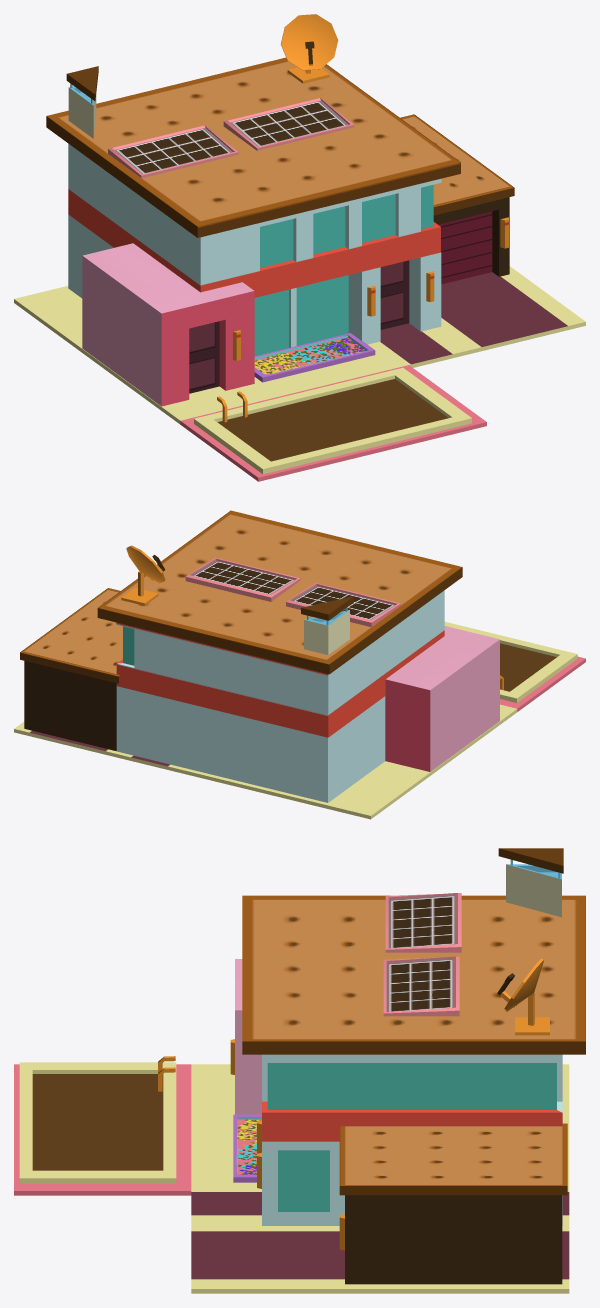
File: Tx_Building_PH_5.fbx
3 views of the same model, one above another, from view 1: azimuth 30°, elevation 25°; view 2: azimuth 150°, elevation 25°; view 3: azimuth 270°, elevation 25° (orthographic). The views are drawn at different scales.
Visible parts, largest first — view 1: Building_Main, Swimming_pool, Solar_panel1, Solar_panel, Flower_Bed, Satelite_dish, Chimney; view 2: Building_Main, Swimming_pool, Solar_panel1, Chimney, Solar_panel, Satelite_dish; view 3: Building_Main, Swimming_pool, Solar_panel1, Solar_panel, Chimney, Satelite_dish, Flower_Bed.
Boxes of the visible parts, x1,y1,x2,y2 form: Building_Main: (14, 57, 585, 424); Swimming_pool: (180, 365, 486, 481); Solar_panel1: (223, 97, 354, 150); Solar_panel: (108, 125, 238, 178); Flower_Bed: (254, 333, 375, 382); Satelite_dish: (280, 14, 338, 83); Chimney: (66, 66, 98, 138); Building_Main: (14, 510, 517, 819); Swimming_pool: (444, 621, 585, 711); Solar_panel1: (185, 557, 300, 601); Chimney: (301, 596, 353, 654); Solar_panel: (286, 582, 400, 626); Satelite_dish: (121, 545, 165, 605); Building_Main: (191, 895, 585, 1293); Swimming_pool: (14, 1056, 191, 1195); Solar_panel1: (383, 956, 459, 1016); Solar_panel: (385, 893, 461, 952); Chimney: (498, 848, 563, 917); Satelite_dish: (497, 958, 549, 1035); Flower_Bed: (233, 1114, 261, 1182).
Bounding box in the file's own units: 36.51 × 19.81 × 39.26.
